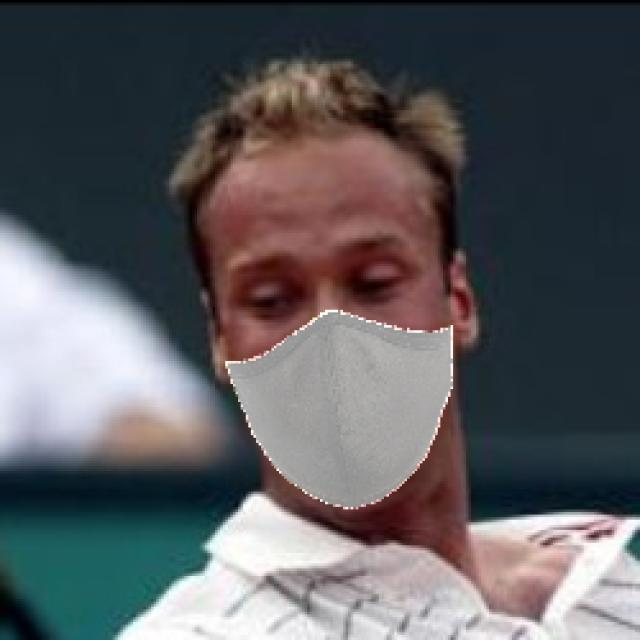mask: (210, 297, 465, 529)
